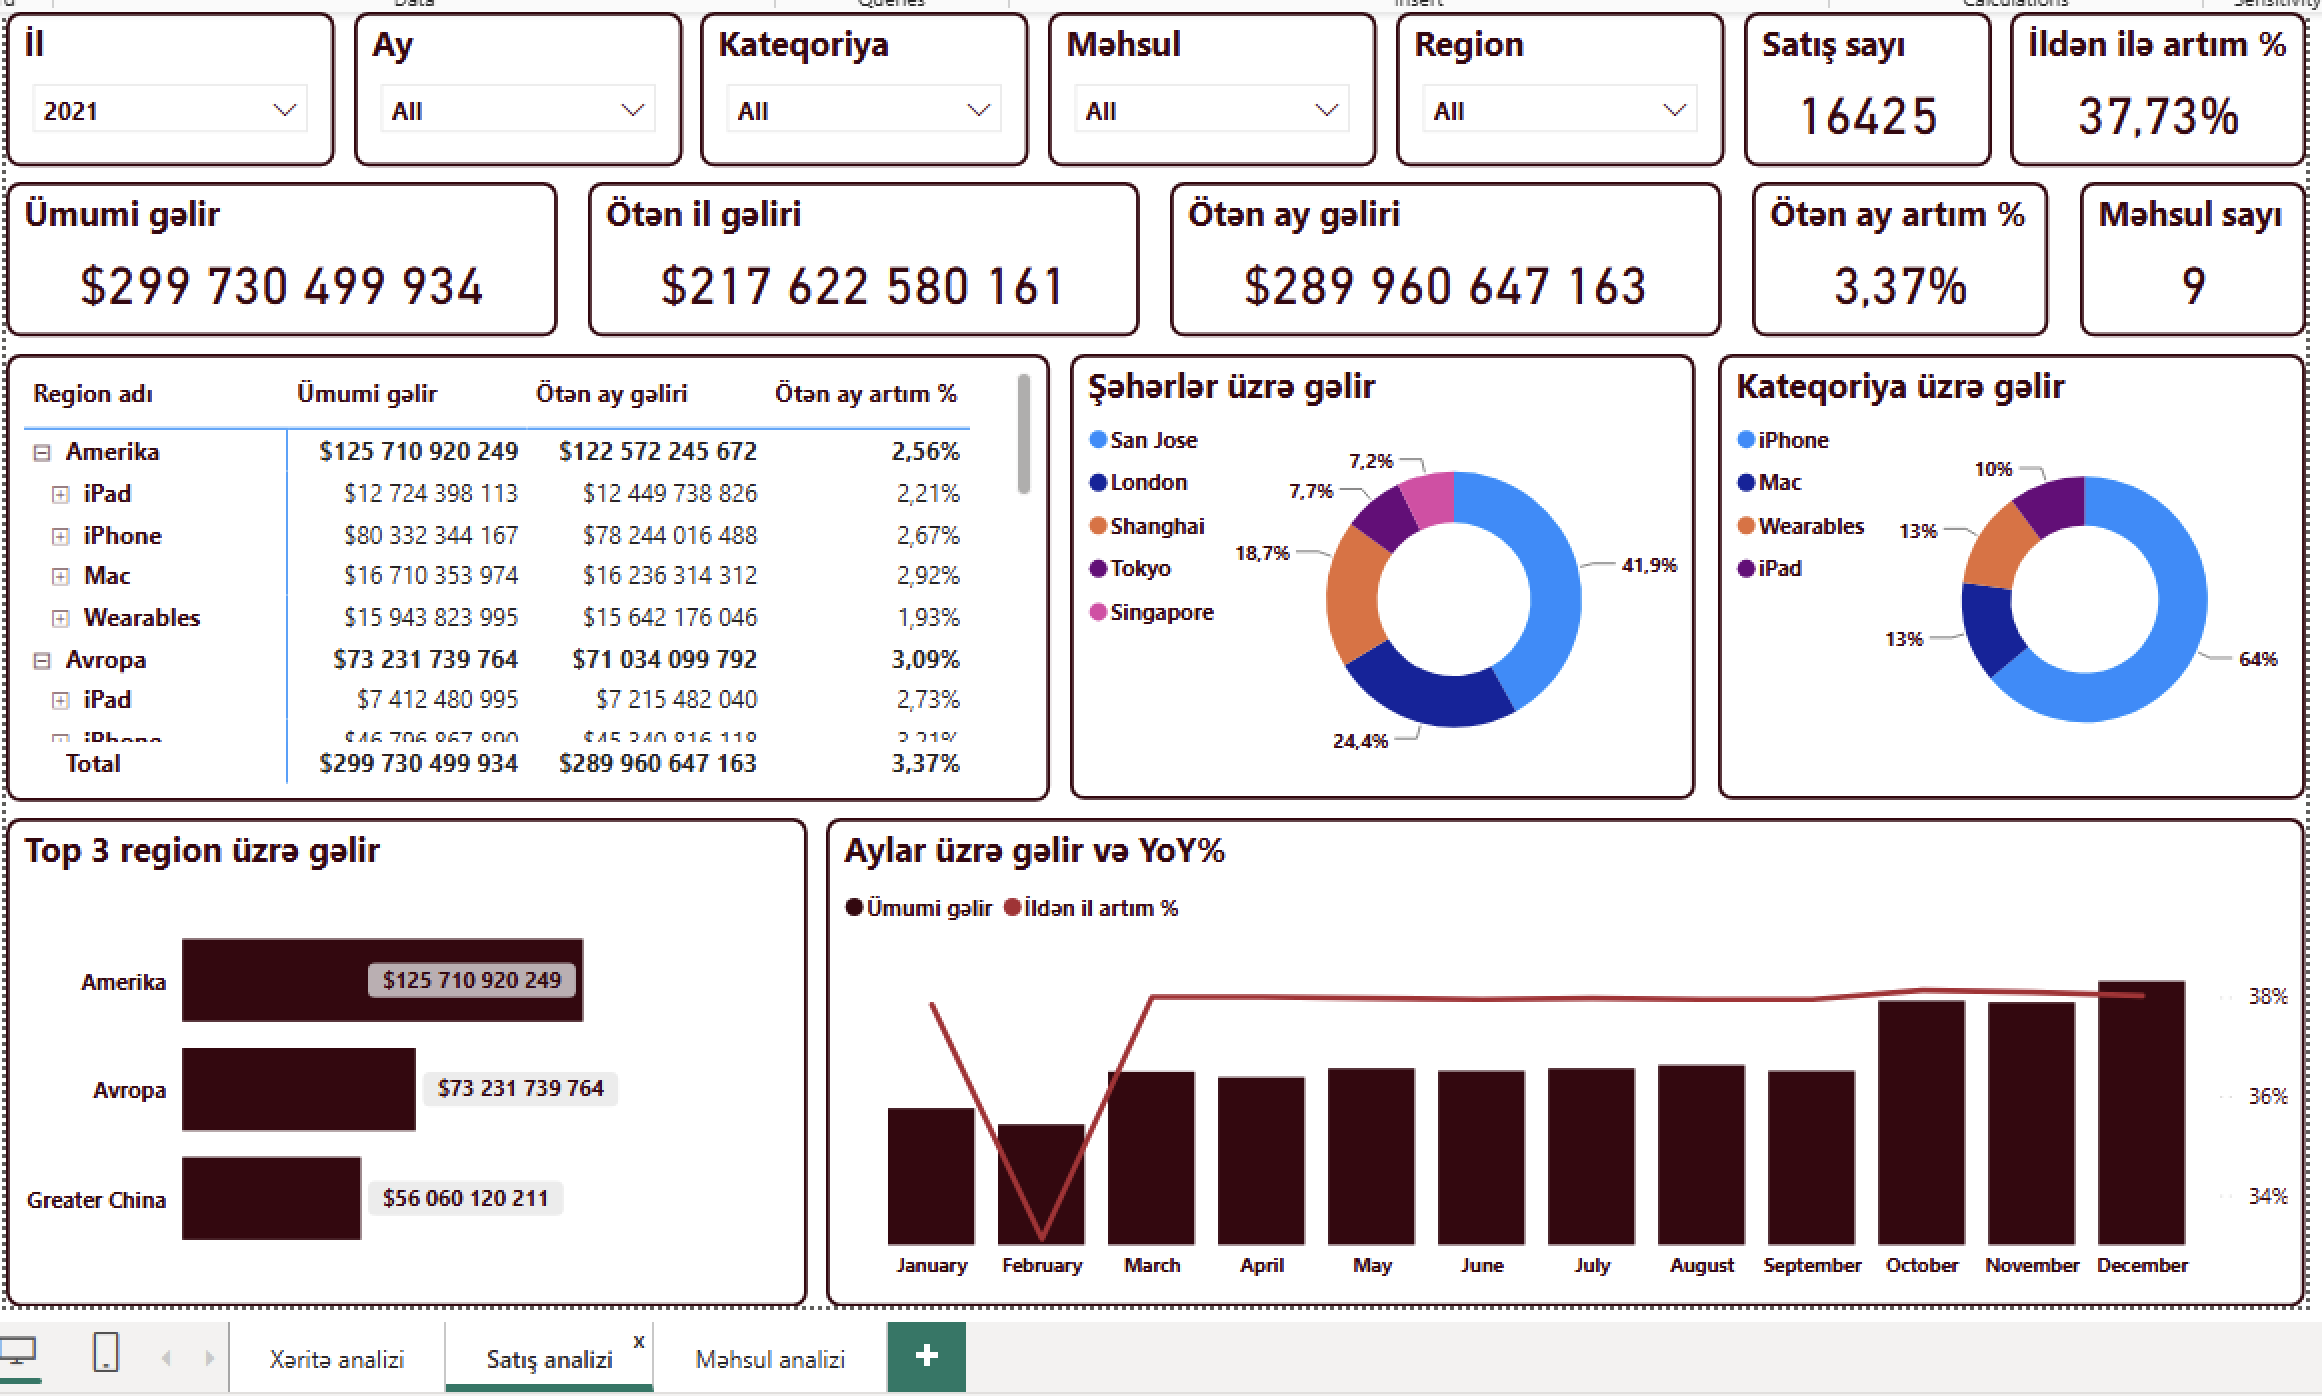

The page's visual inventory and layout, read from the dashboard file:
{"tool":"powerbi","page":{"name":"Satış analizi","canvas":[1280,720],"ordinal":1},"visuals":[{"type":"card","title":"Ötən il gəliri","fields":{"Values":["DAX.Ötən il gəliri"]},"box":[323.8,94.7,306.7,85.8],"z":0},{"type":"card","title":"Ümumi gəlir","fields":{"Values":["DAX.Ümumi gəlir"]},"box":[0,94.7,306.7,85.8],"z":1000},{"type":"card","title":"Satış sayı","fields":{"Values":["DAX.Satış sayı"]},"box":[966.7,0,137.6,85.8],"z":2000},{"type":"card","title":"Ötən ay gəliri","fields":{"Values":["DAX.Ötən ay gəliri"]},"box":[647.6,94.7,306.7,85.8],"z":3000},{"type":"slicer","title":"İl","fields":{"Values":["Calendar.Date.Variation.Date Hierarchy.Year"]},"box":[0,0,183,85.8],"z":4000},{"type":"slicer","title":"Ay","fields":{"Values":["Calendar.Date.Variation.Date Hierarchy.Month"]},"box":[193.3,0,183,85.8],"z":5000},{"type":"slicer","title":"Kateqoriya","fields":{"Values":["Apple_Gəlir_2020_2025.Kateqoriya"]},"box":[386.7,0,183,85.8],"z":6000},{"type":"slicer","title":"Məhsul","fields":{"Values":["Apple_Məhsul.Məhsul_adı"]},"box":[580,0,183,85.8],"z":7000},{"type":"slicer","title":"Region","fields":{"Values":["Apple_Region.Region_adı"]},"box":[773.4,0,183,85.8],"z":8000},{"type":"card","title":"Ötən ay artım %","fields":{"Values":["DAX.Ötən aya görə gəlirin artım %"]},"box":[971.4,94.7,165.4,85.8],"z":9000},{"type":"card","title":"İldən ilə artım %","fields":{"Values":["DAX.İldən il artım %"]},"box":[1114.6,0,165.4,85.8],"z":10000},{"type":"card","title":"Məhsul sayı","fields":{"Values":["DAX.Məhsul sayı"]},"box":[1153.8,94.7,126.2,85.8],"z":11000},{"type":"pivotTable","fields":{"Rows":["Apple_Region.Region_adı","Apple_Məhsul.Kateqoriya","Apple_Məhsul.Məhsul_adı"],"Values":["DAX.Ümumi gəlir","DAX.Ötən ay gəliri","DAX.Ötən ay artım %"]},"box":[0,190.6,580.7,248.7],"z":12000},{"type":"barChart","title":"Top 3 region  üzrə gəlir","fields":{"Category":["Apple_Region.Region adı"],"Y":["DAX.Ümumi gəlir"]},"box":[0,448.5,446.2,271.5],"z":13000},{"type":"lineClusteredColumnComboChart","title":"Aylar üzrə gəlir və YoY%","fields":{"Category":["Calendar.Date.Variation.Date Hierarchy.Month"],"Y":["DAX.Ümumi gəlir"],"Y2":["DAX.İldən il artım %"]},"box":[456.3,448.5,823.5,271.5],"z":14000},{"type":"donutChart","title":"Şəhərlər üzrə gəlir","fields":{"Category":["Apple_Region.Baş Şəhər"],"Y":["DAX.Ümumi gəlir"]},"box":[592,190.3,348.3,248.2],"z":15000},{"type":"donutChart","title":"Kateqoriya üzrə gəlir","fields":{"Y":["DAX.Ümumi gəlir"],"Category":["Apple_Məhsul.Kateqoriya"]},"box":[952.6,190.3,327.2,248.2],"z":16000}]}

Visuals, with their boxes in screenshot pixels (x1, y1, x2, y2):
"Ötən il gəliri" card: l=585, t=175, r=1134, b=329
"Ümumi gəlir" card: l=6, t=175, r=555, b=329
"Satış sayı" card: l=1735, t=6, r=1982, b=160
"Ötən ay gəliri" card: l=1165, t=175, r=1713, b=329
"İl" slicer: l=6, t=6, r=333, b=160
"Ay" slicer: l=352, t=6, r=679, b=160
"Kateqoriya" slicer: l=698, t=6, r=1025, b=160
"Məhsul" slicer: l=1044, t=6, r=1371, b=160
"Region" slicer: l=1390, t=6, r=1717, b=160
"Ötən ay artım %" card: l=1744, t=175, r=2040, b=329
"İldən ilə artım %" card: l=2000, t=6, r=2296, b=160
"Məhsul sayı" card: l=2070, t=175, r=2296, b=329
pivotTable - Apple_Region.Region_adı x Apple_Məhsul.Kateqoriya: l=6, t=347, r=1045, b=792
"Top 3 region  üzrə gəlir" barChart: l=6, t=808, r=804, b=1294
"Aylar üzrə gəlir və YoY%" lineClusteredColumnComboChart: l=822, t=808, r=2296, b=1294
"Şəhərlər üzrə gəlir" donutChart: l=1065, t=346, r=1688, b=791
"Kateqoriya üzrə gəlir" donutChart: l=1710, t=346, r=2296, b=791
